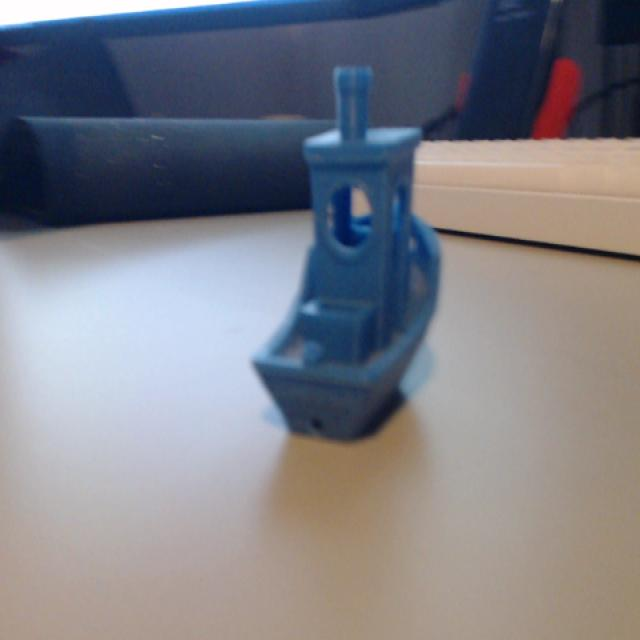benchy: (247, 61, 445, 443)
